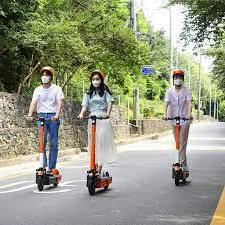helmet: (27, 66, 65, 192), (81, 69, 117, 195), (165, 68, 197, 188)
